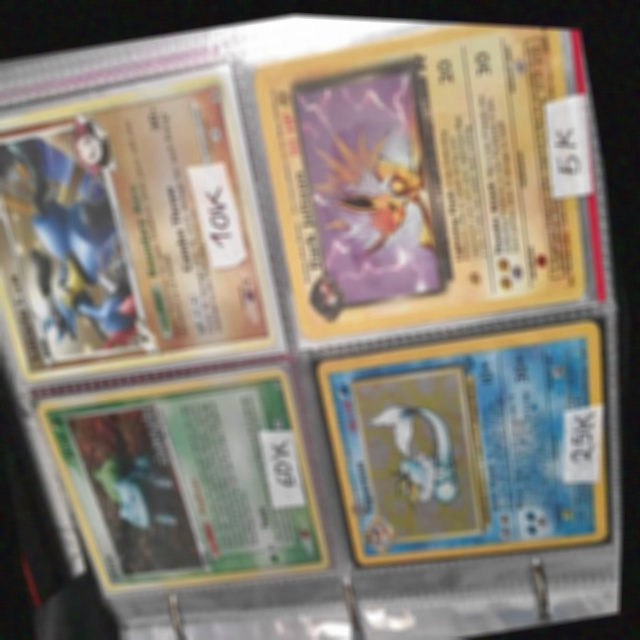card: (252, 18, 588, 336), (0, 70, 279, 380), (320, 312, 611, 561), (39, 362, 334, 590)
